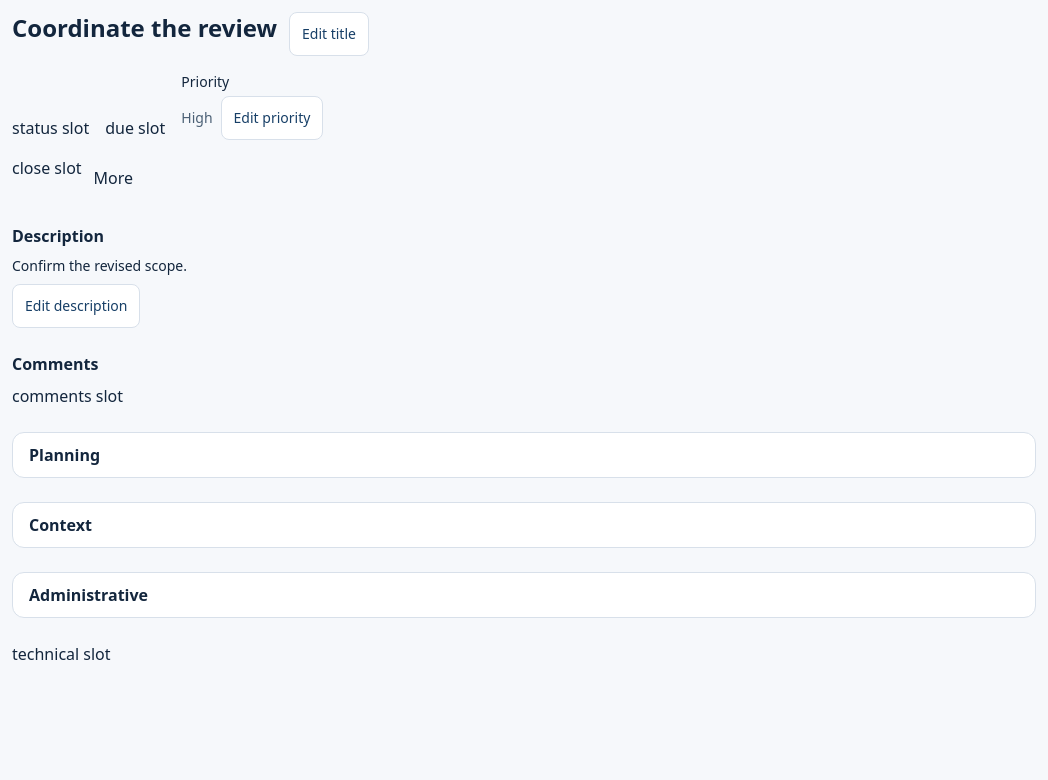
Scenario: progressive Task detail › saves a description after Edit, and Cancel restores the committed text
Click the button with test id "task-edit-description" at (76, 306), box x1=12 y1=284 x2=140 y2=328
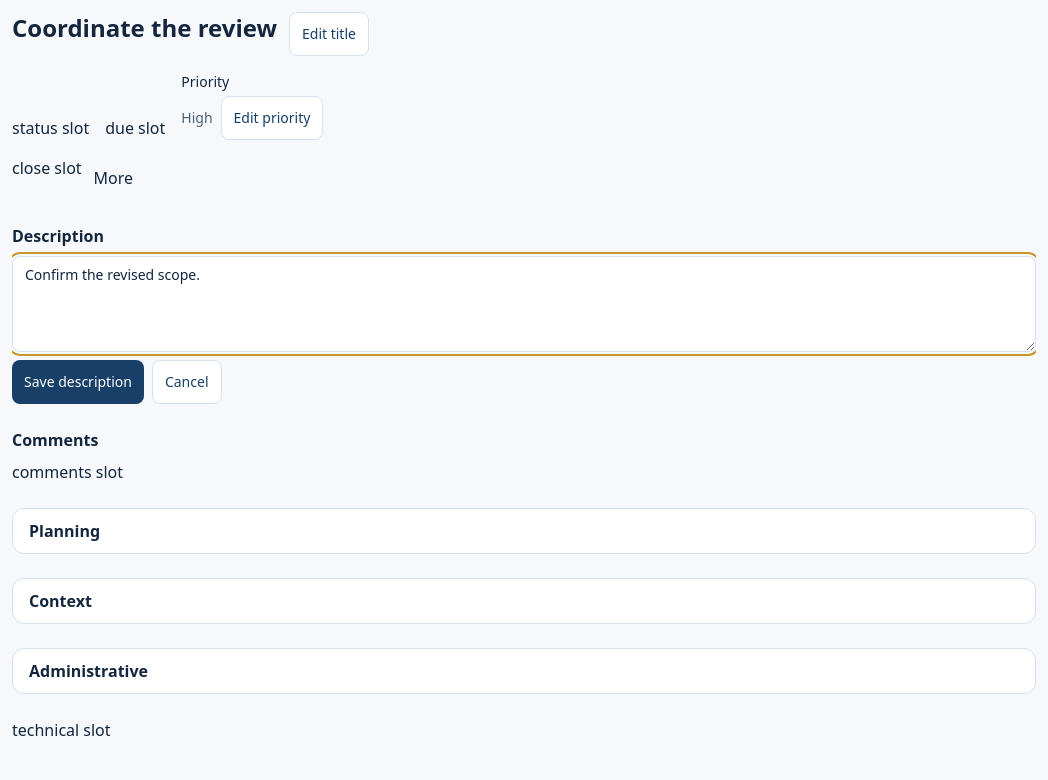
Clear the text box named "Description" at (524, 304), box x1=12 y1=256 x2=1036 y2=352
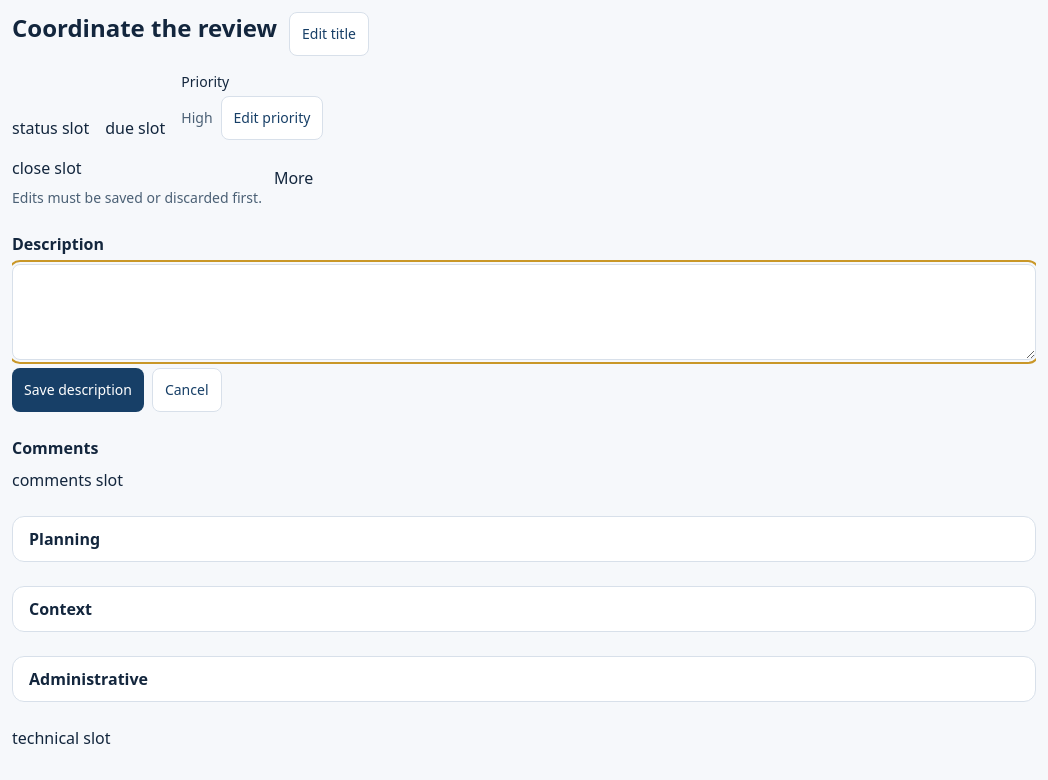
Type "Updated scope notes." into the text box named "Description" at (524, 312), box x1=12 y1=264 x2=1036 y2=360
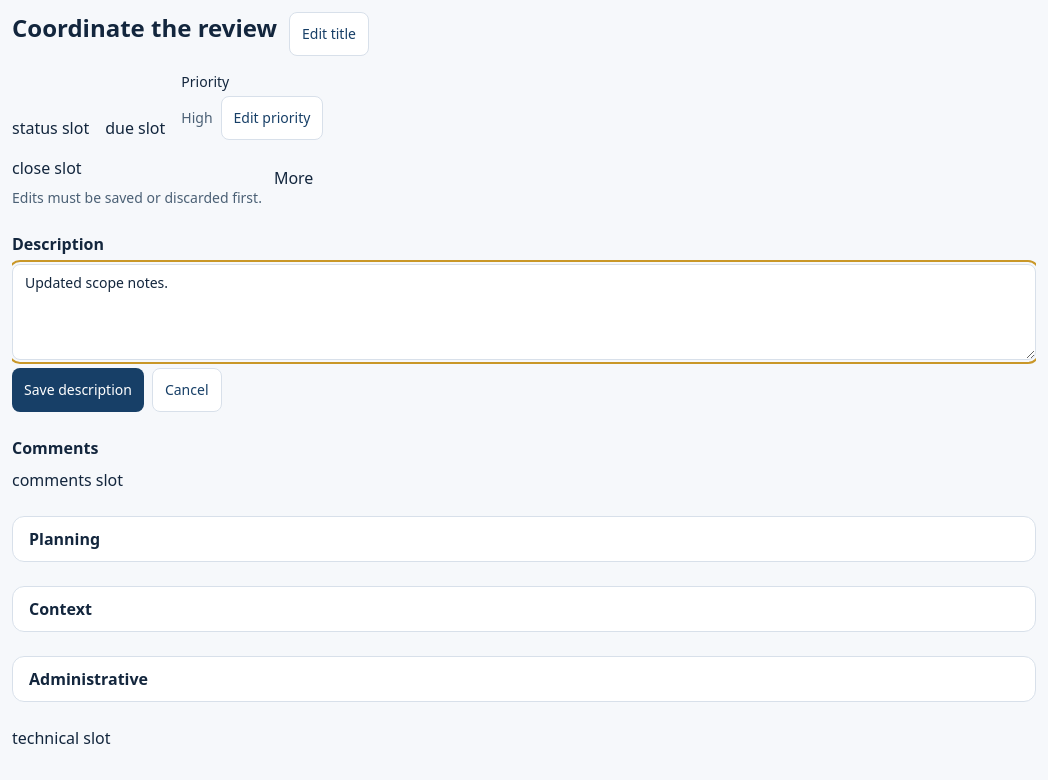
Click the button "Save description" at (78, 390), box x1=12 y1=368 x2=144 y2=412
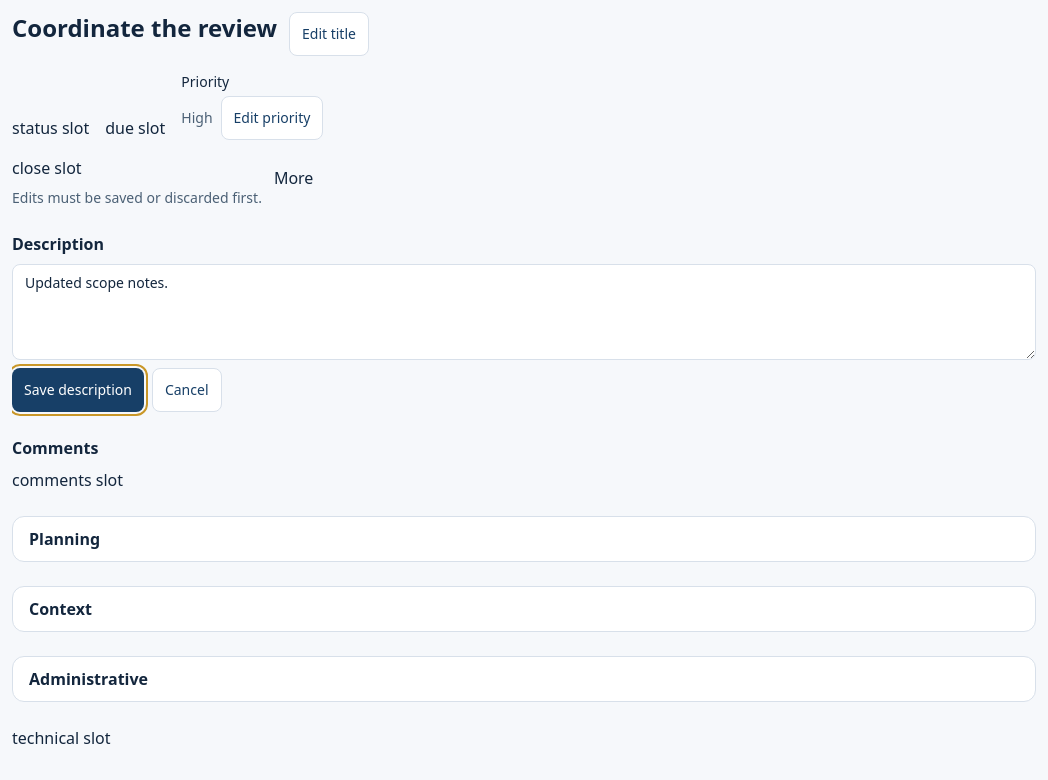
Click the button "Cancel" at (187, 390), box x1=152 y1=368 x2=222 y2=412
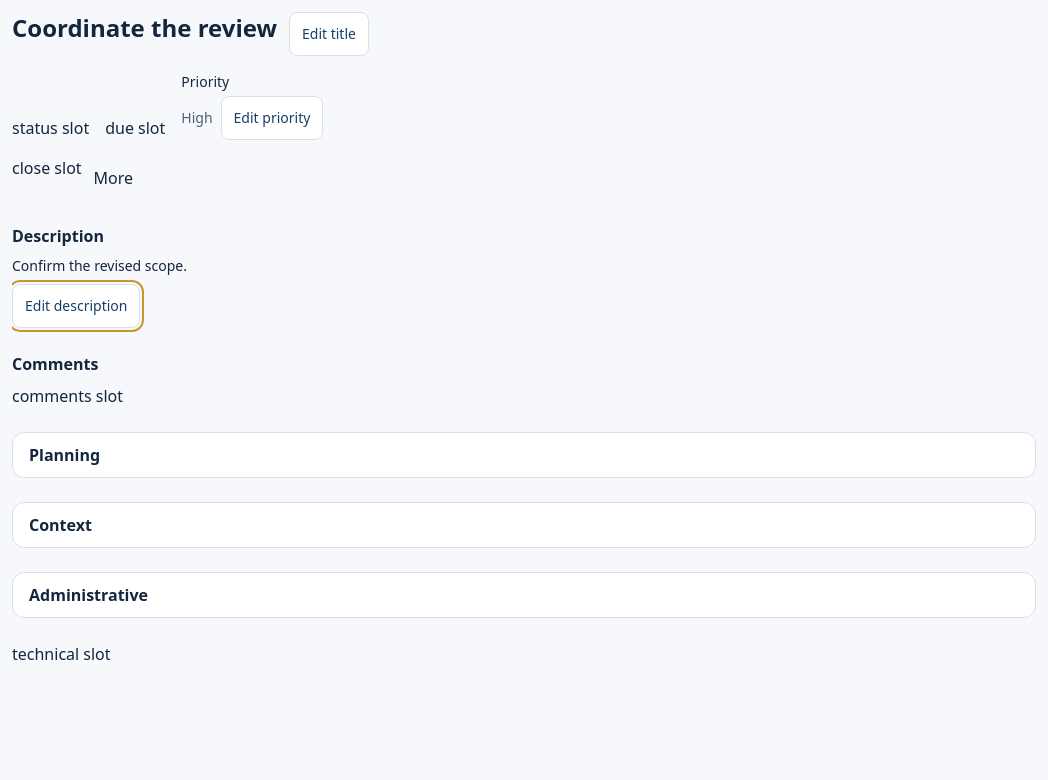
Expected: the text "Confirm the revised scope." is shown, x1=12 y1=256 x2=187 y2=275
